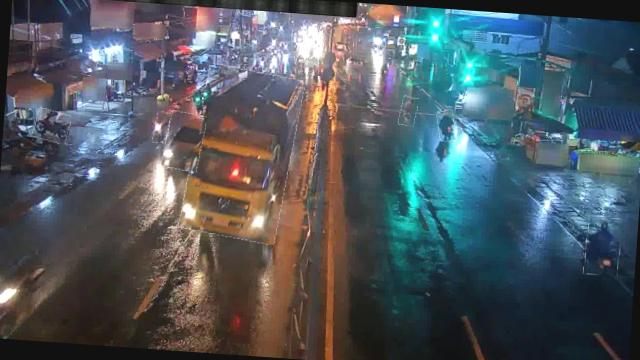Bike: (583, 216, 621, 276), (32, 108, 70, 142), (436, 109, 456, 142), (398, 96, 418, 126), (153, 111, 170, 143), (190, 88, 203, 115)
Car: (162, 110, 205, 171)
Truck: (182, 65, 301, 244)
